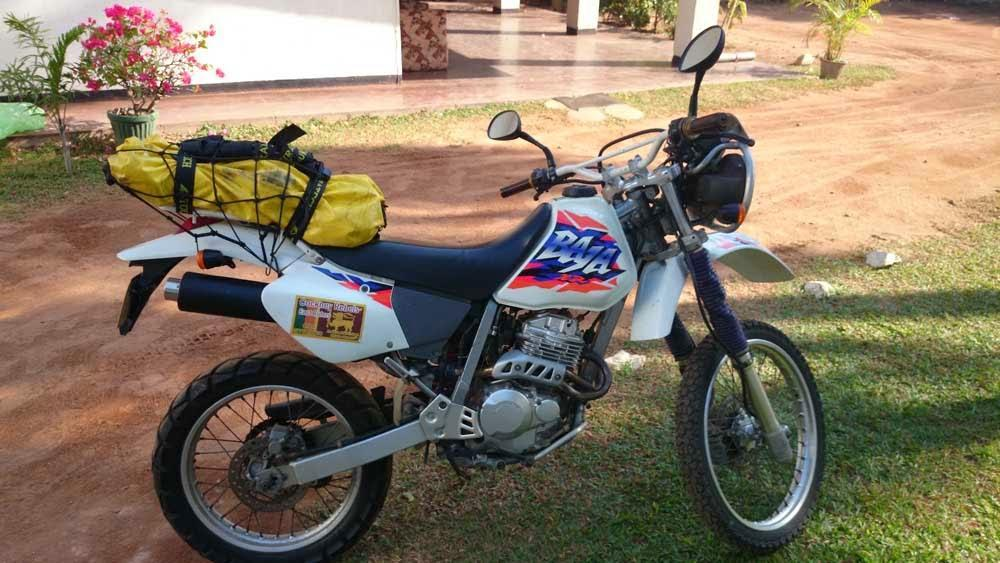motorbike: (115, 25, 826, 563)
